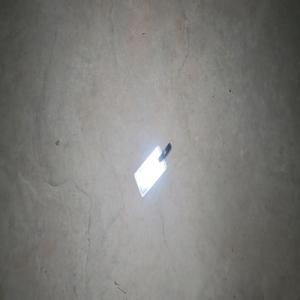LuggageTag: (133, 141, 171, 198)
